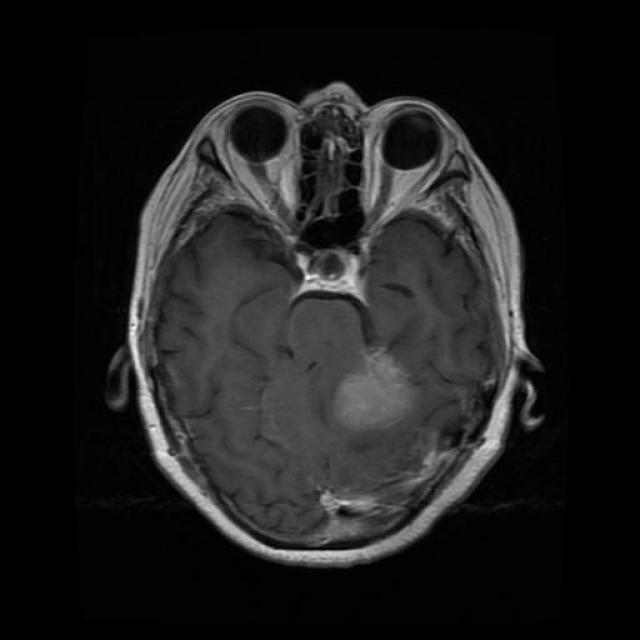Brain-Tumor: (326, 339, 424, 440)
eye: (358, 80, 470, 260), (208, 79, 311, 249)
